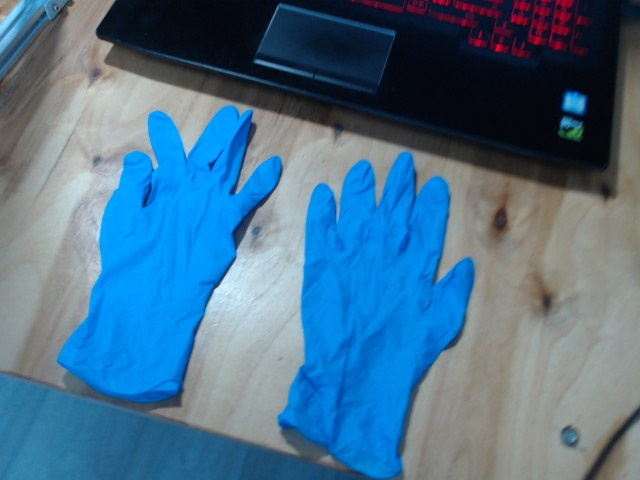medical_glove: (56, 105, 282, 403), (282, 148, 479, 480)
